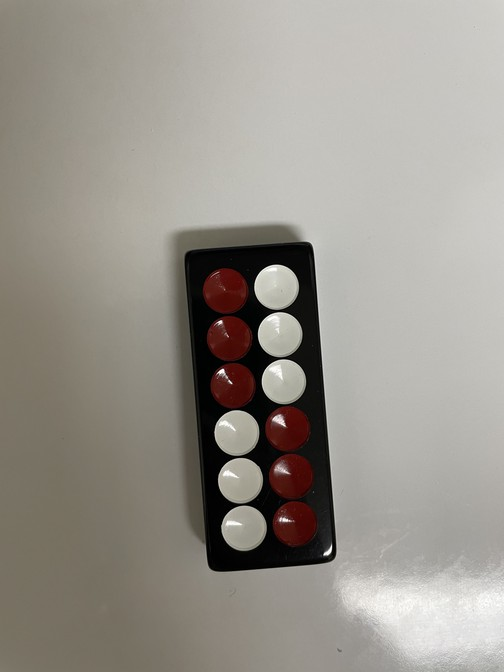heaven: (181, 242, 337, 572)
